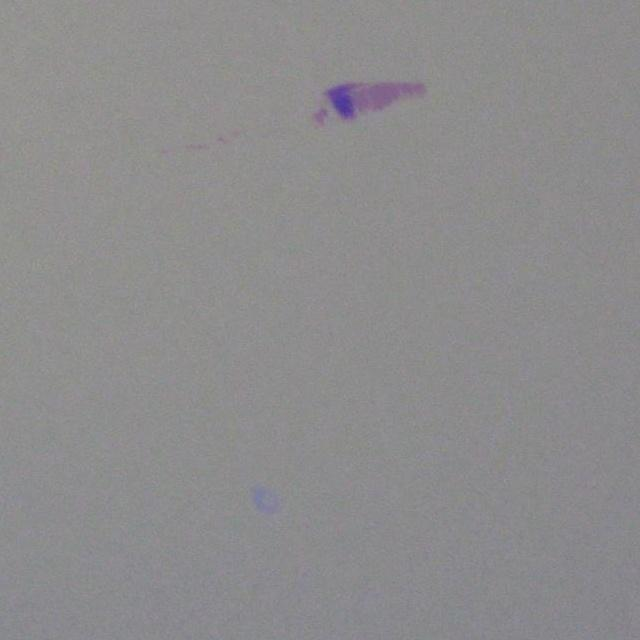monolayer-eWW4: (345, 78, 426, 116)
